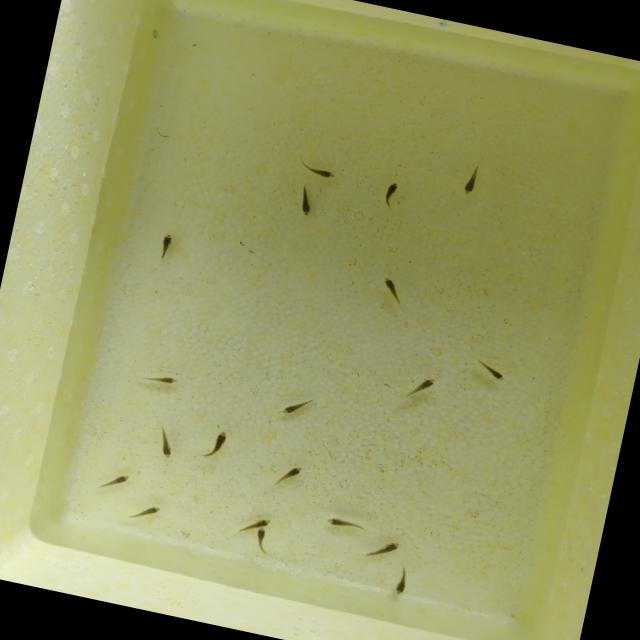fingerling: (409, 368, 442, 402), (207, 426, 236, 462), (150, 230, 182, 262), (242, 508, 276, 538), (373, 273, 408, 302), (123, 500, 163, 525), (95, 469, 135, 494), (370, 533, 402, 563), (151, 429, 181, 460), (299, 160, 340, 182), (320, 512, 360, 534), (478, 361, 512, 386), (379, 176, 404, 210), (456, 171, 486, 199), (292, 188, 318, 220), (275, 395, 303, 422), (140, 371, 184, 388), (390, 568, 413, 600), (250, 528, 270, 555)
